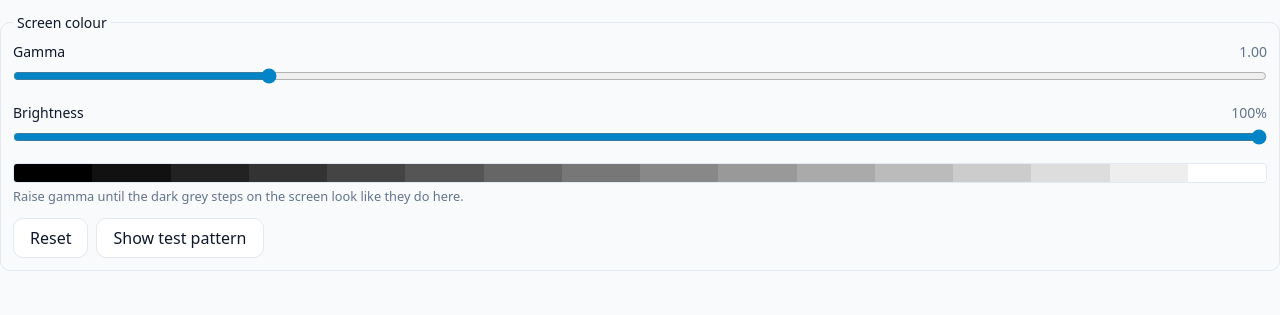
Calibration › a failed POST shows the error and keeps the toggle off
What coordinates should you click on to do the following:
click the button "Show test pattern"
I would click on:
 (180, 238)
Its box is [96, 218, 264, 258].
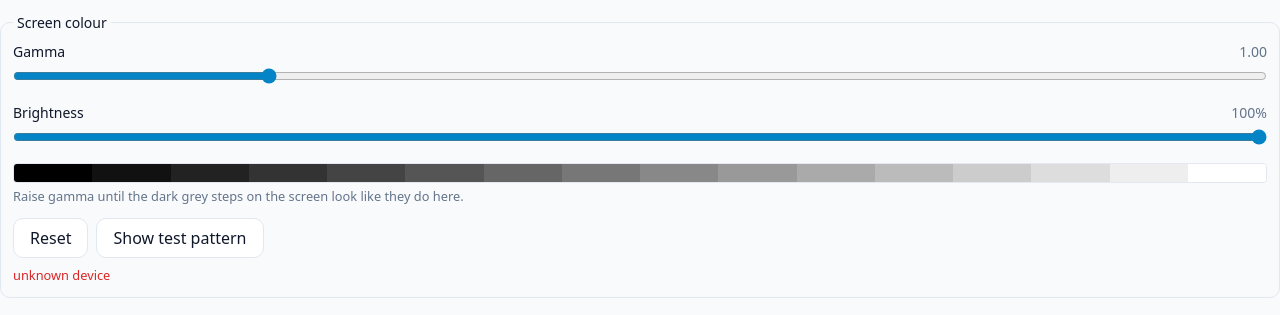
Check: the message reads "unknown device", box [13, 266, 110, 284]
